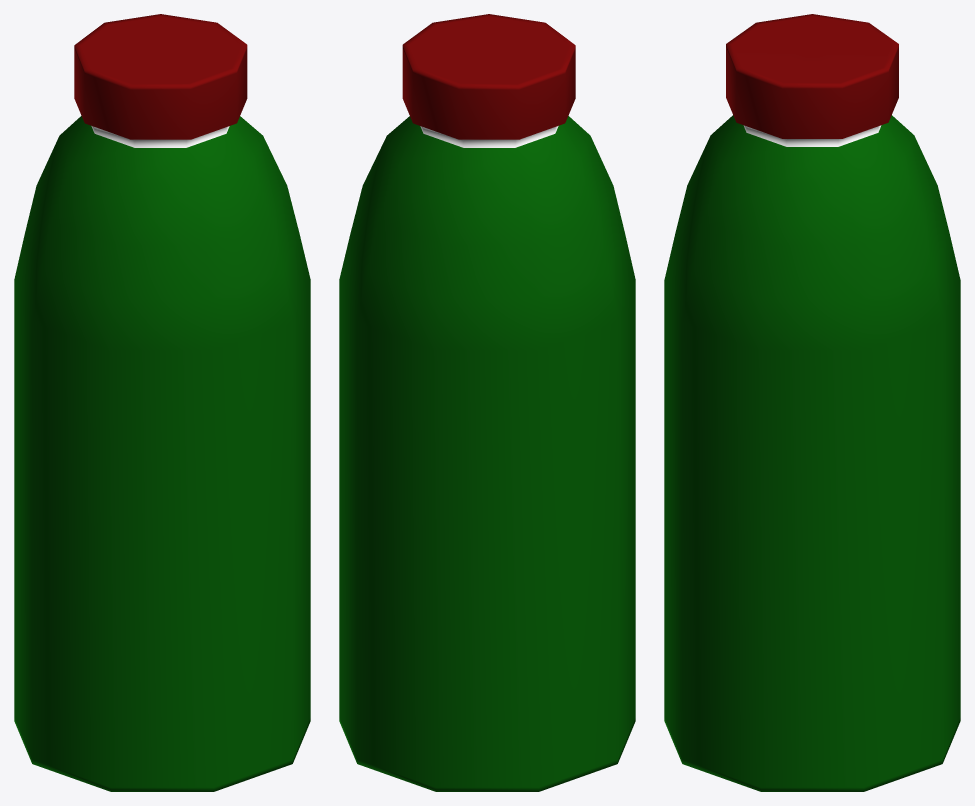
Rendered from Botle.fbx.
The picture shows the model from 3 angles, left to right: view 1: azimuth 30°, elevation 25°; view 2: azimuth 150°, elevation 25°; view 3: azimuth 270°, elevation 25°; orthographic projection.
Parts seen in each view (by area): view 1: Botle_13; view 2: Botle_13; view 3: Botle_13.
Part boxes in pixels (left/top/right/bottom): Botle_13: left=14, top=14, right=310, bottom=791; Botle_13: left=339, top=14, right=635, bottom=791; Botle_13: left=664, top=14, right=960, bottom=791.
Bounding box in the file's own units: 118 × 303 × 120.
